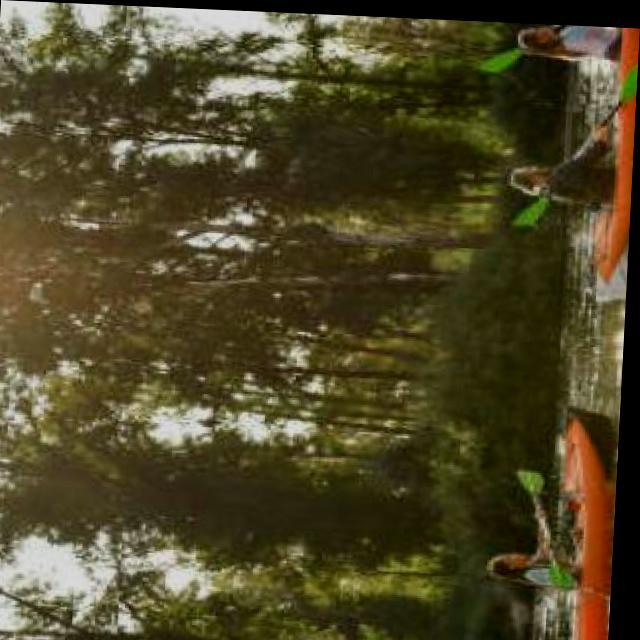kayak: (540, 404, 620, 640), (596, 22, 640, 275)
